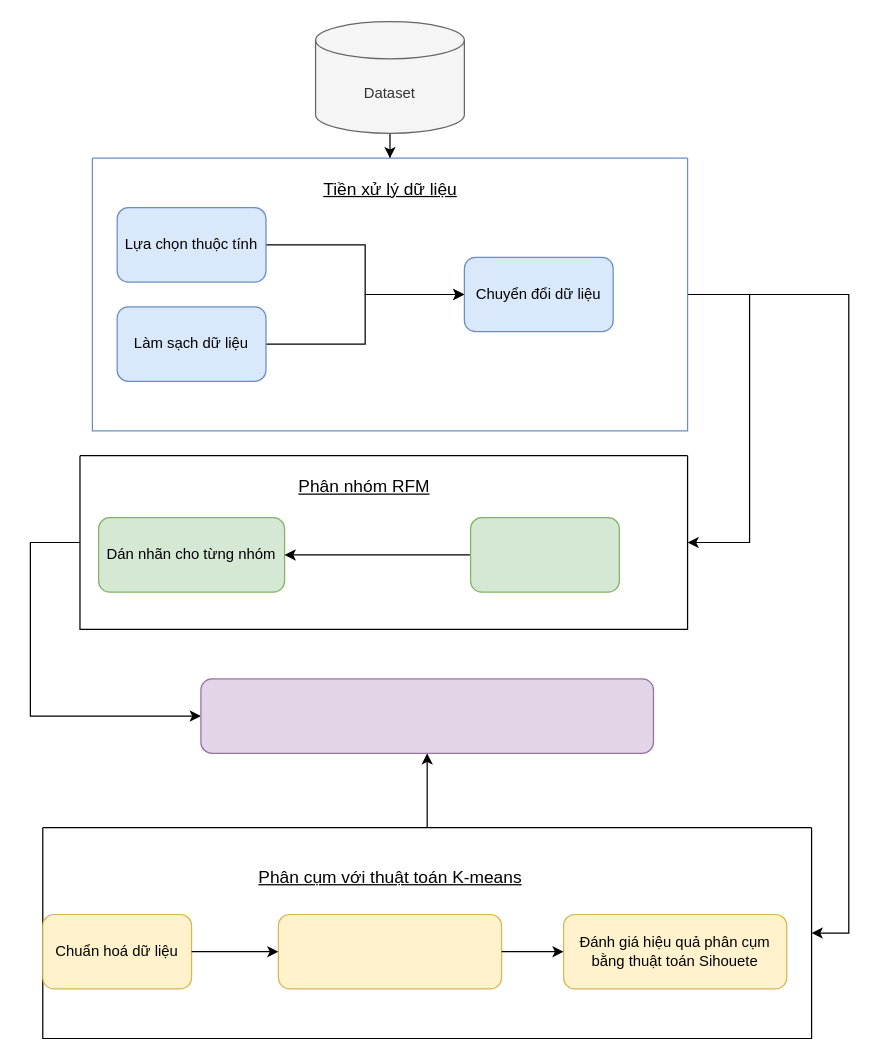
Image size: 880x1060. Some labels were removed from this diagram. The centre of each missing label's shape, as x and y in pixels:
"Phân nhóm từng giá trị R, F, M" goes at (x=544, y=554).
"Trực quan hoá và phân tích kết quả sau khi phân cụm" goes at (x=426, y=715).
"Tìm số K cụm bằng phương pháp Elbow Curve" goes at (x=389, y=951).
